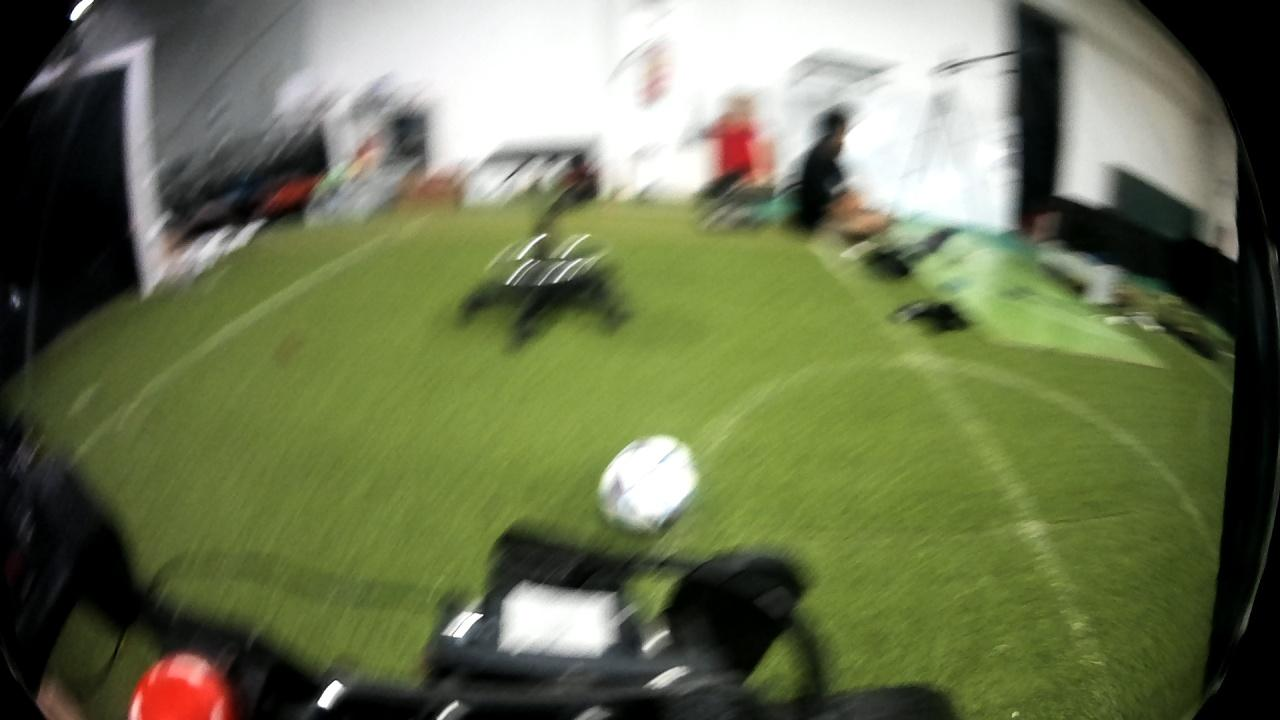ball: (591, 431, 707, 535)
